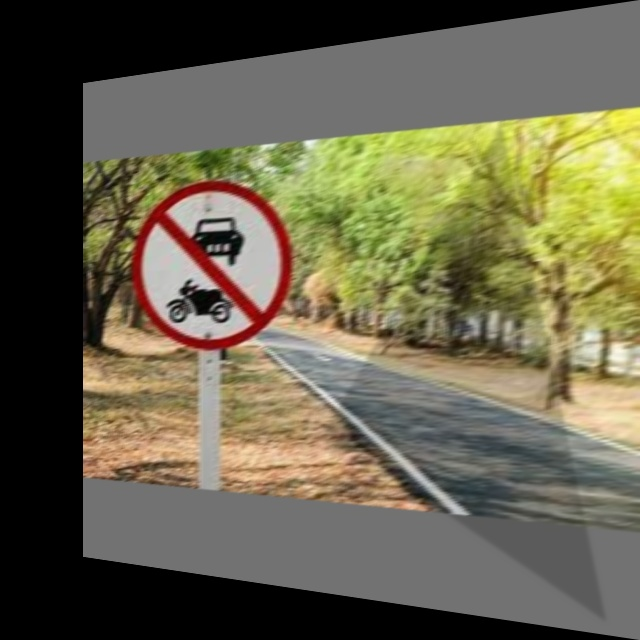All_Motor_Vehicles_Prohibited: (135, 175, 288, 345)
